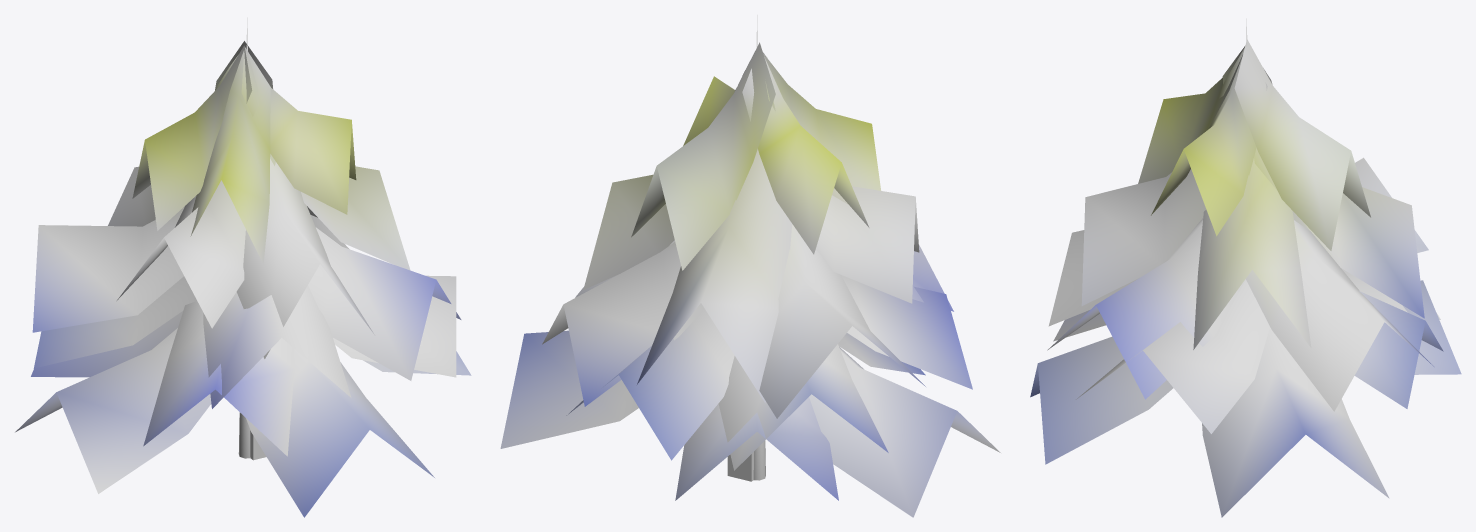
The model's file is BalsamFir.fbx.
The picture shows the model from 3 angles, left to right: view 1: azimuth 30°, elevation 25°; view 2: azimuth 150°, elevation 25°; view 3: azimuth 270°, elevation 25°; orthographic projection. The views are drawn at different scales.
Visible parts, largest first — view 1: BalsamFir_LOD0; view 2: BalsamFir_LOD0; view 3: BalsamFir_LOD0.
Part boxes in pixels (x1,y1,x2,y2): BalsamFir_LOD0: [15, 17, 471, 517]; BalsamFir_LOD0: [500, 15, 1000, 517]; BalsamFir_LOD0: [1030, 18, 1461, 517].
Size of the model in its own units: 8.86 by 9.27 by 8.28.
